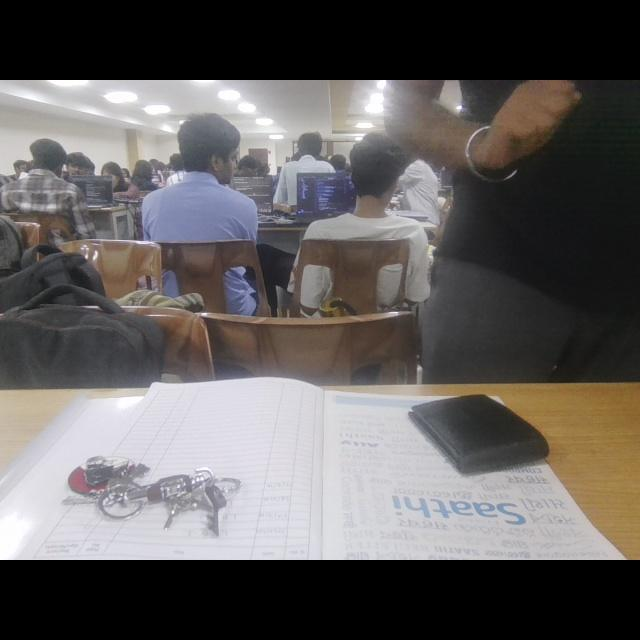keys: (59, 440, 253, 544)
wallet: (406, 386, 564, 494)
